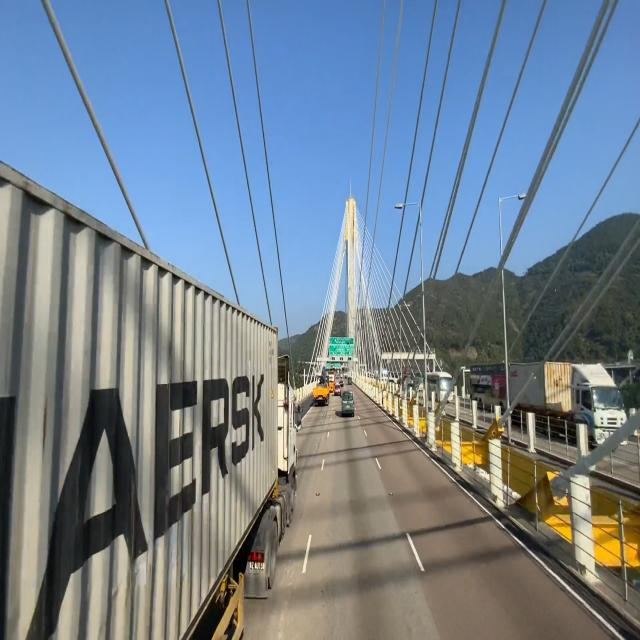Car: (337, 389, 358, 418)
